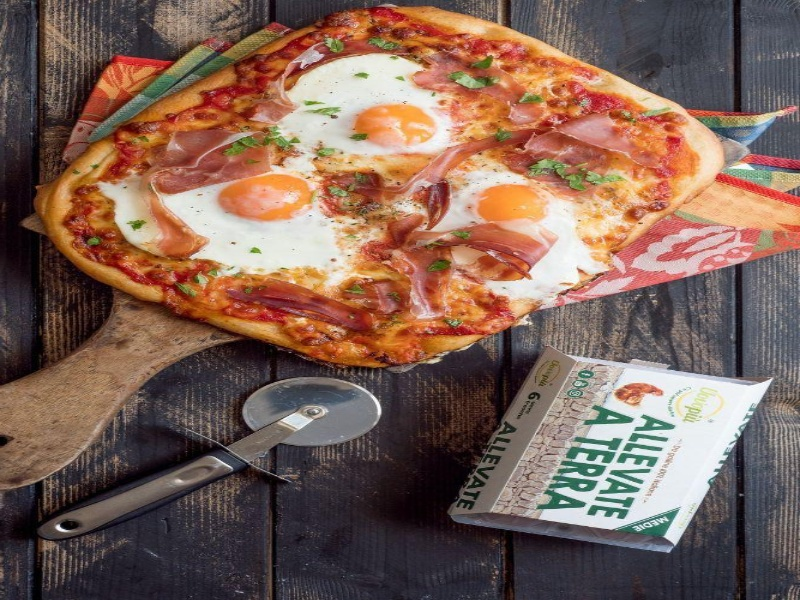oeuf: (209, 166, 319, 231), (342, 88, 442, 152), (464, 178, 557, 237)
